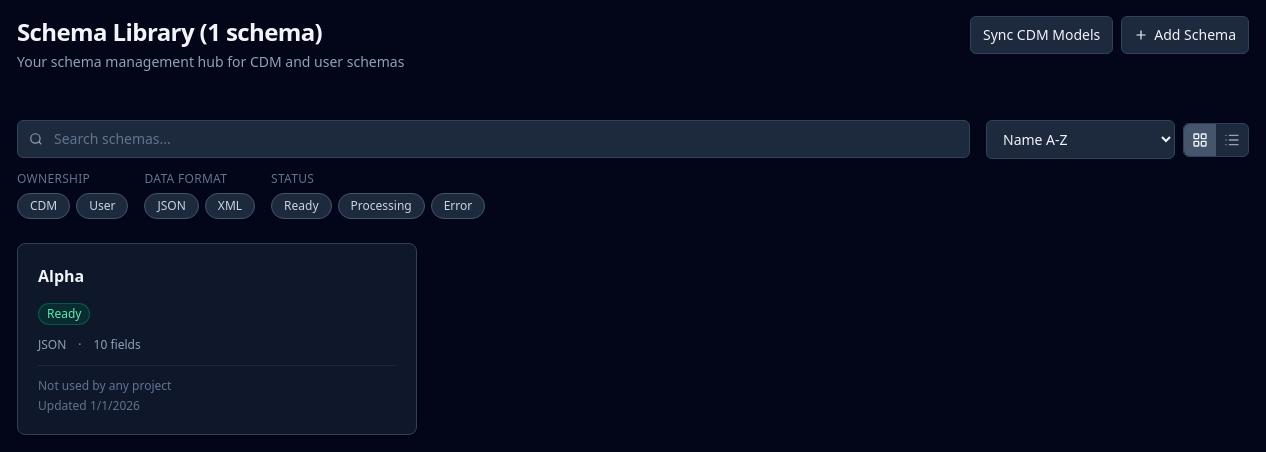
Test: SchemaLibraryPage › shows no-results message when filters yield zero results
expect the element with test id "schema-library-card" is shown: met, box [17, 243, 417, 435]
Type a search that matches nothing
Type "zzznomatch" into the search field.
click(494, 139); type("zzznomatch")  # box [17, 120, 970, 158]
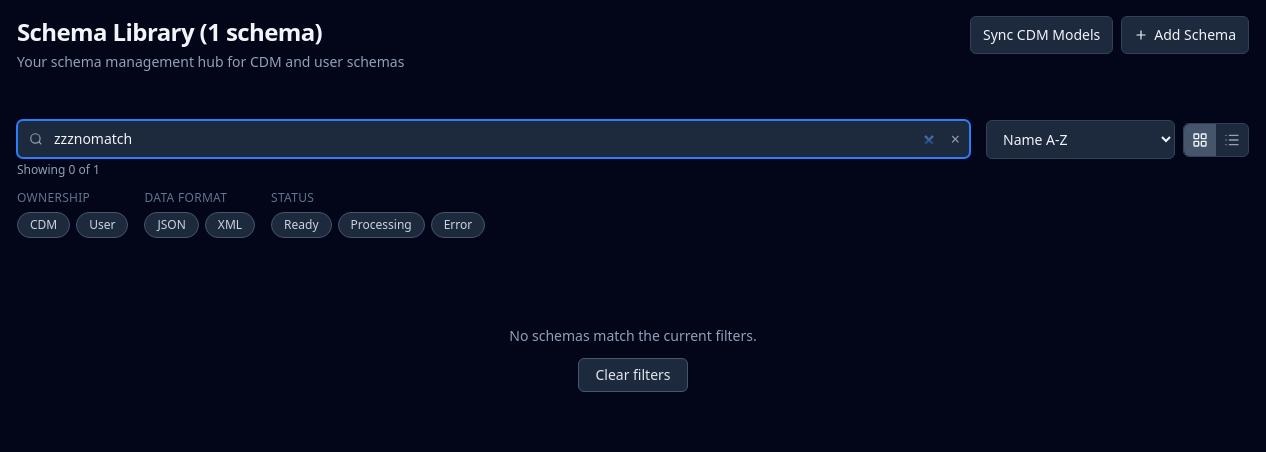
expect the element with test id "no-results" is shown: met, box [509, 326, 757, 392]
expect the element with test id "schema-library-card" is gone: met
